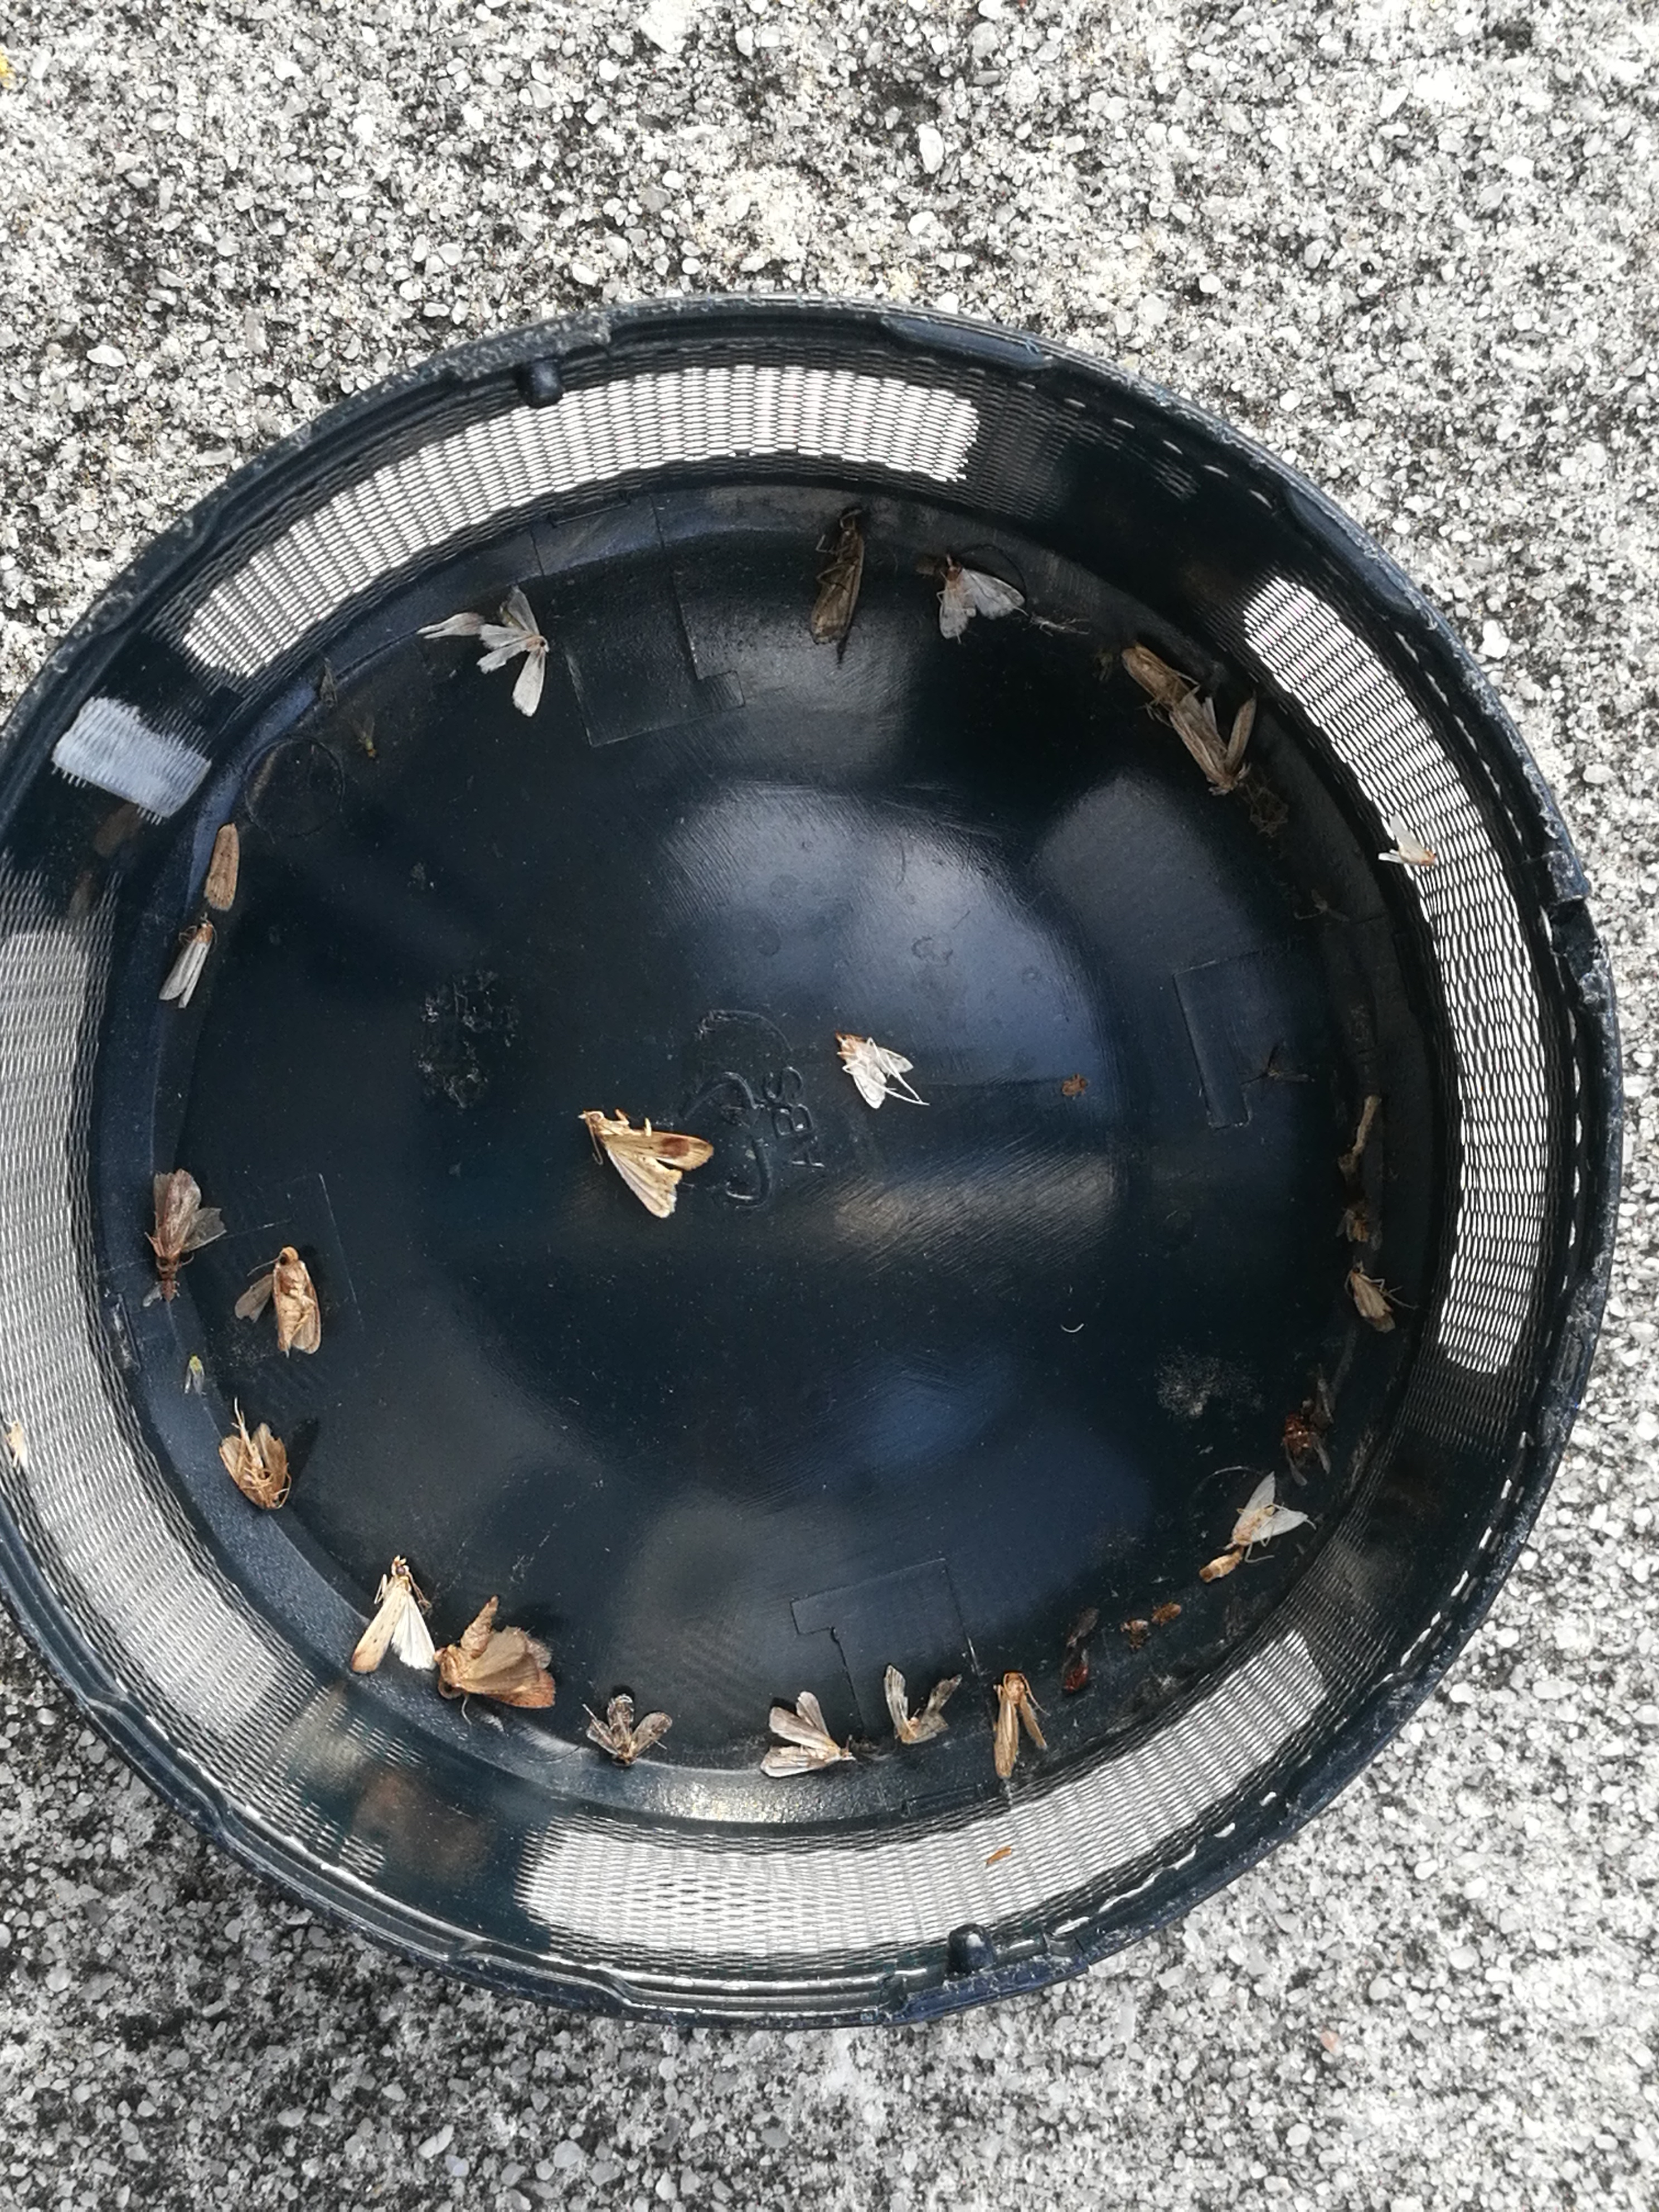mosquito: (162, 920, 214, 1007), (1121, 646, 1182, 702)
moth: (584, 1111, 711, 1217), (439, 1602, 554, 1705), (347, 1561, 434, 1674), (483, 585, 547, 716), (763, 1691, 854, 1777), (1175, 697, 1255, 791), (153, 1170, 223, 1273), (812, 523, 863, 646), (938, 563, 1023, 636), (587, 1693, 671, 1764), (885, 1665, 960, 1742), (1230, 1472, 1309, 1543), (995, 1674, 1049, 1777), (221, 1425, 286, 1508), (840, 1035, 913, 1108), (272, 1247, 319, 1353)
